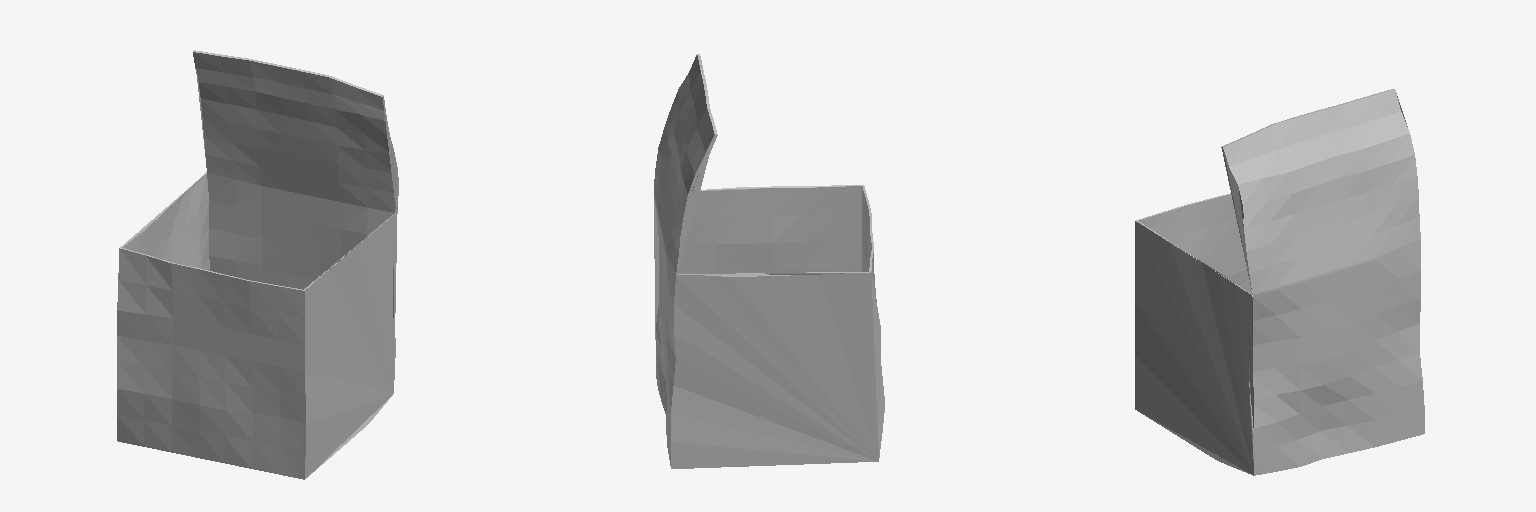
Rendered from CardboardBox.obj.
3 renders of one model, left to right at view 1: azimuth 30°, elevation 25°; view 2: azimuth 150°, elevation 25°; view 3: azimuth 270°, elevation 25°, orthographic.
Parts seen in each view (by area): view 1: Cube.037; view 2: Cube.037; view 3: Cube.037.
Part boxes in pixels (left/top/right/bottom): Cube.037: left=117, top=50, right=398, bottom=479; Cube.037: left=654, top=54, right=884, bottom=468; Cube.037: left=1135, top=89, right=1424, bottom=475.
Size of the model in its own units: 2.84 by 3.52 by 2.79.